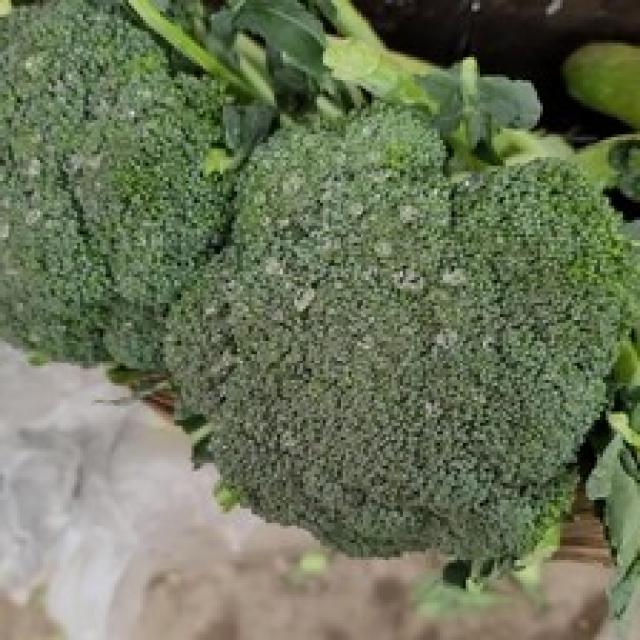Broccoli: (0, 2, 632, 572), (0, 2, 226, 367), (374, 240, 392, 258)
